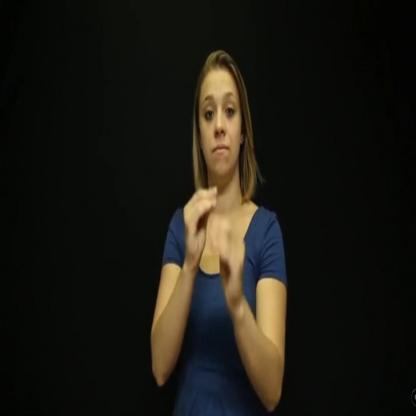Fix: (177, 178, 252, 337)
